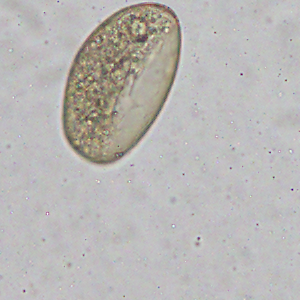Fasciola_hepatica_egg: (61, 1, 183, 167)
